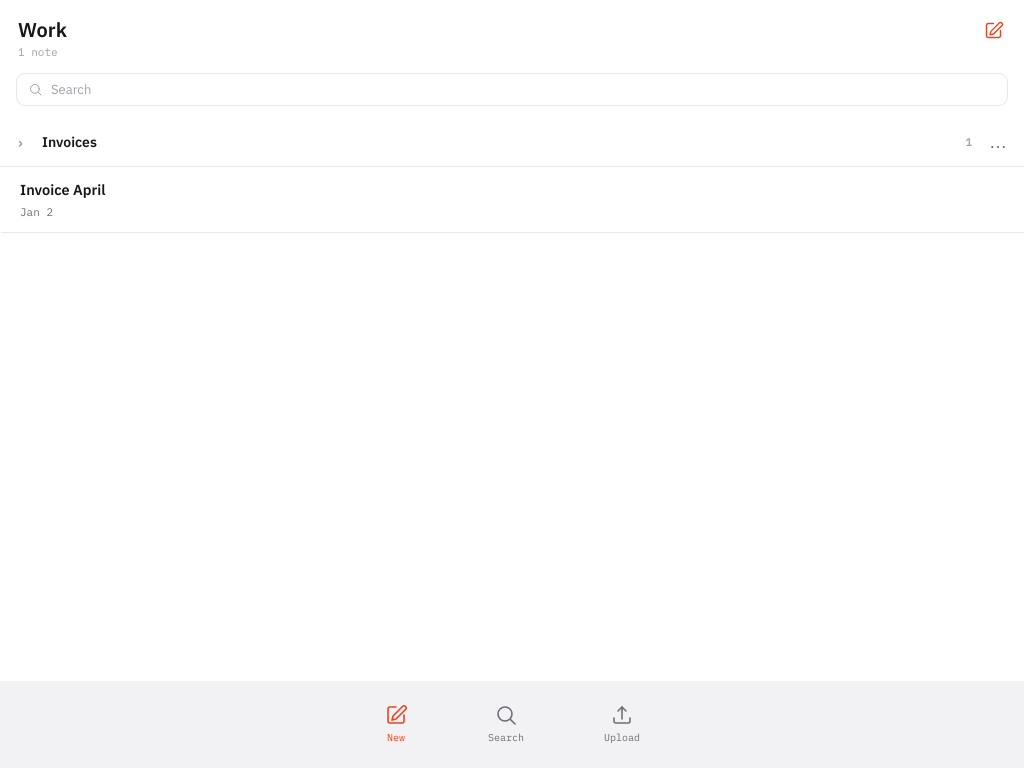
Test: HomeView collections accordion (mounted) › renders collection headers for the notebook and expands to show live members only
Expected: the text "Invoices" is shown, [42,132,97,150]
Expected: the text "Invoice April" is shown, [20,180,106,198]
# Expand in place (toggle button, not the manage "…" which also contains the name).
Click the button with class "home__collection-toggle" at (69, 142), box [12,122,978,162]
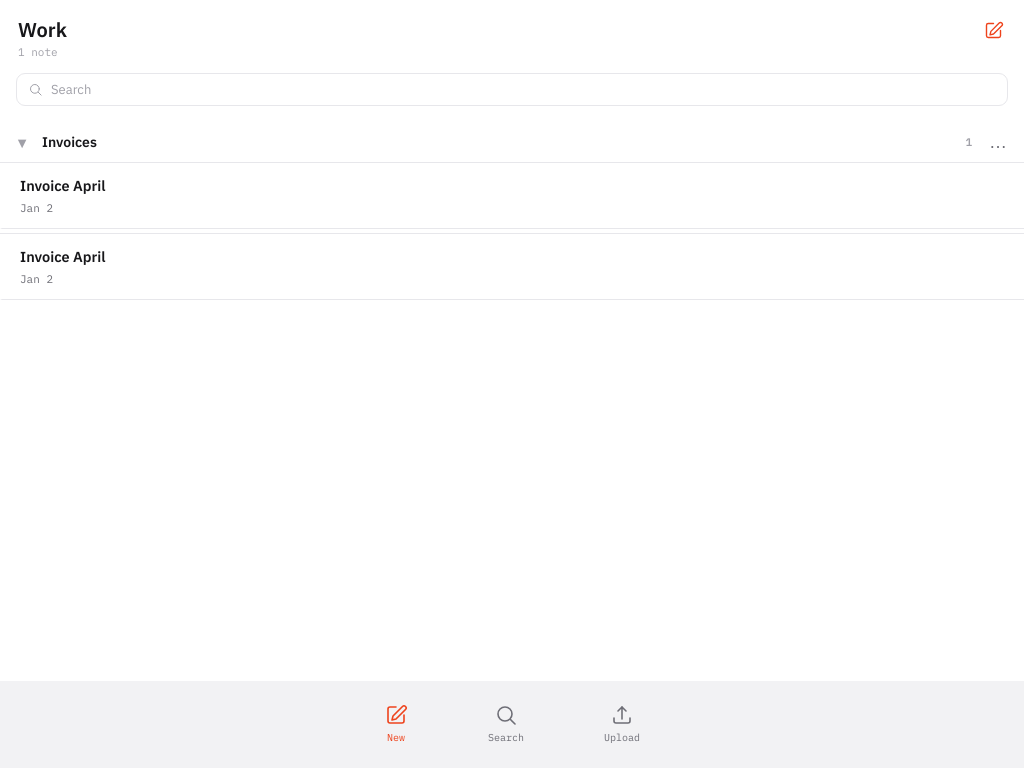
Result: the list named "Invoices notes" is shown at [0,162,1023,229]
